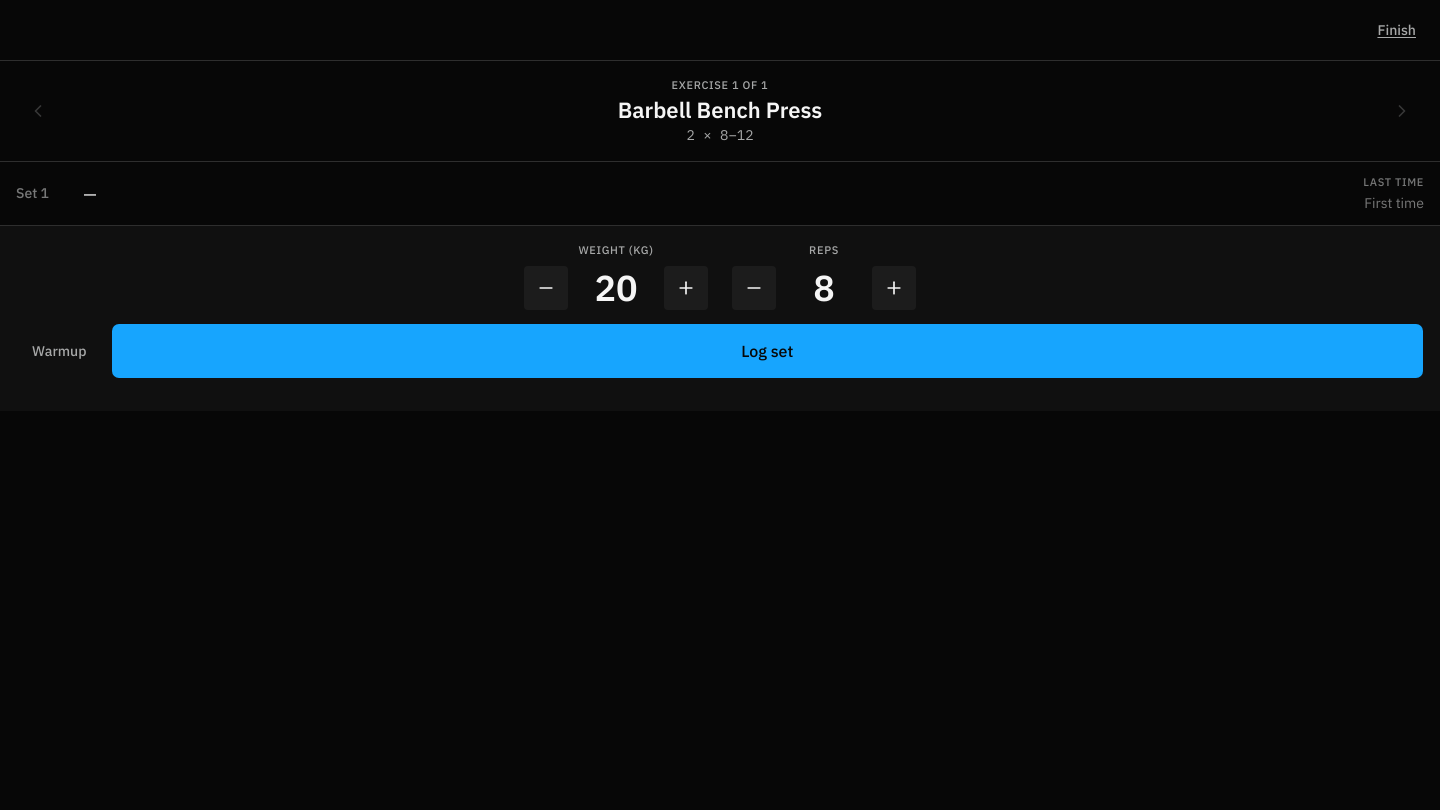
SessionPlayer › Finish flow (ticket 014) › on a network failure resolving the user (offline, before commit_session is even reached): shows the retry banner rather than hanging
Expected: the heading "Barbell Bench Press" is shown, [618,96,822,123]
Click the button "Finish". click: (1397, 30)
box: [1369,8,1424,52]
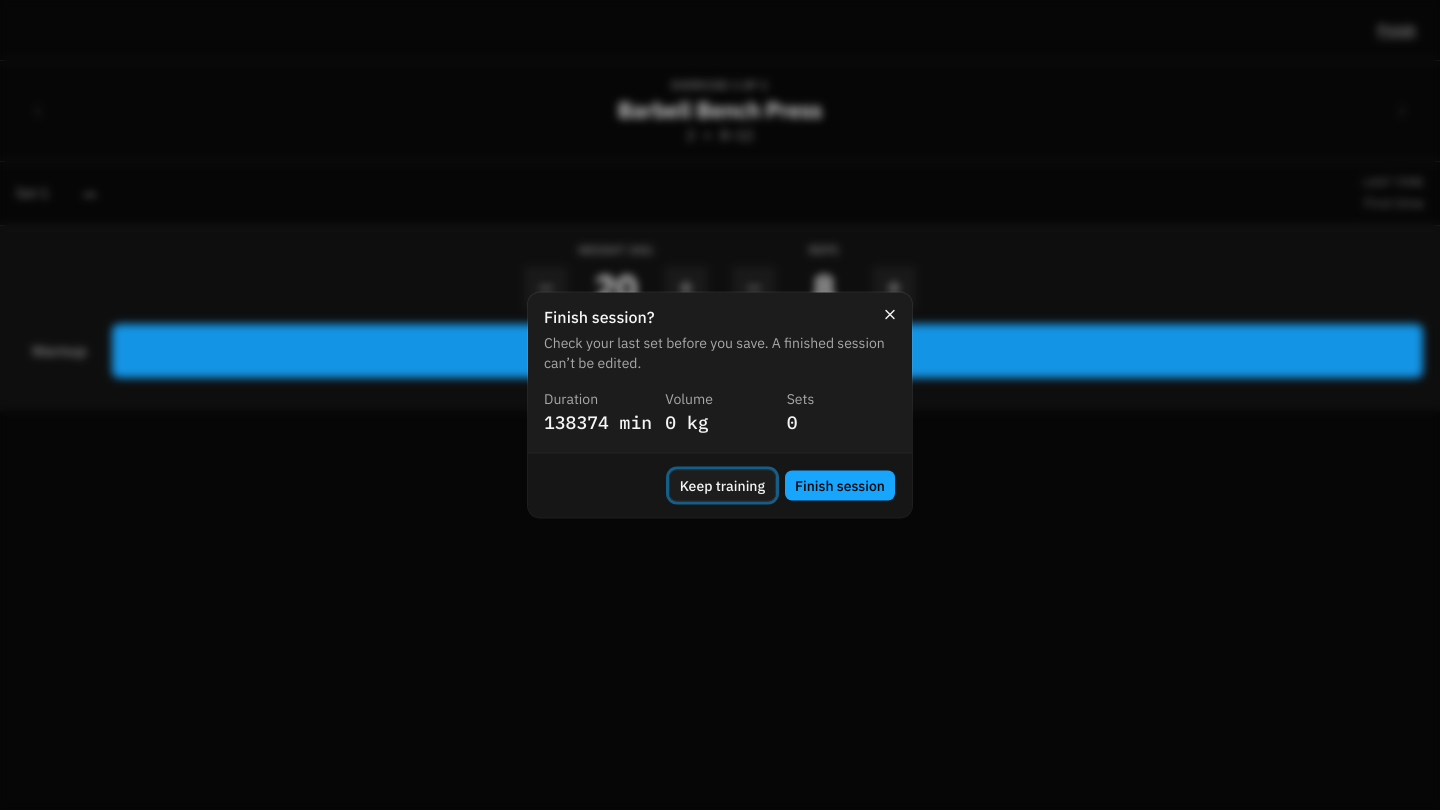
Expected: the heading "Finish session?" is shown, [544,306,655,326]
Click the button "Finish session". click: (840, 486)
box: [784,470,896,502]
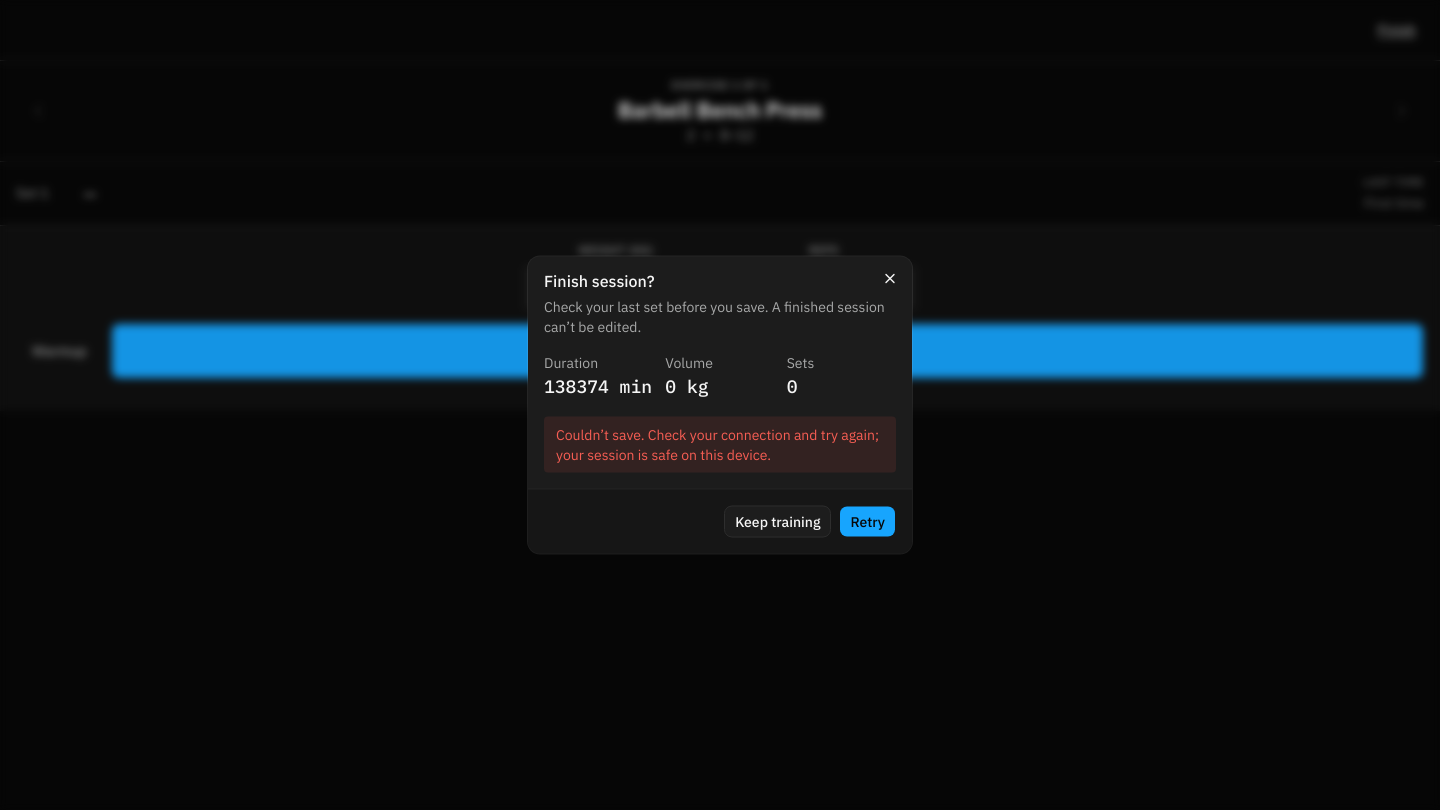
Expected: the text "Couldn’t save. Check your connection and try again; your session is safe on this device." is shown, [556,426,879,464]
